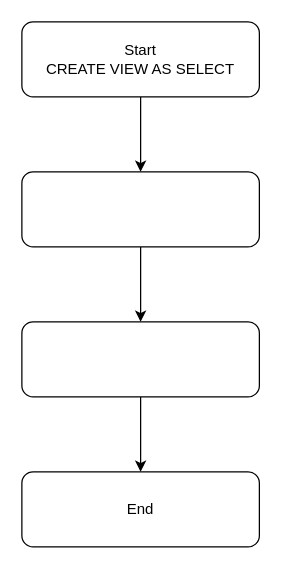
Some shapes in this 281 by 569 pixel diagram are drawn without their labels. The centre of each missing label's shape, as x and y in pixels:
"Query View" belongs at point (140, 209).
"Reusable Result" belongs at point (140, 359).
